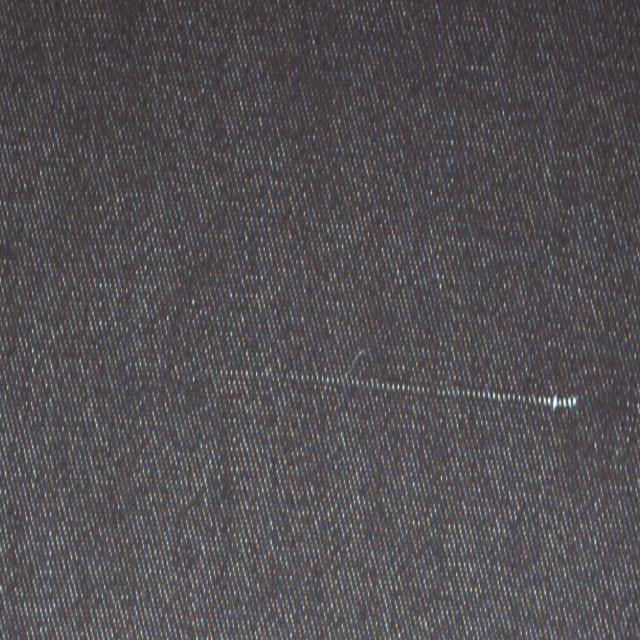Line: (203, 362, 577, 412)
